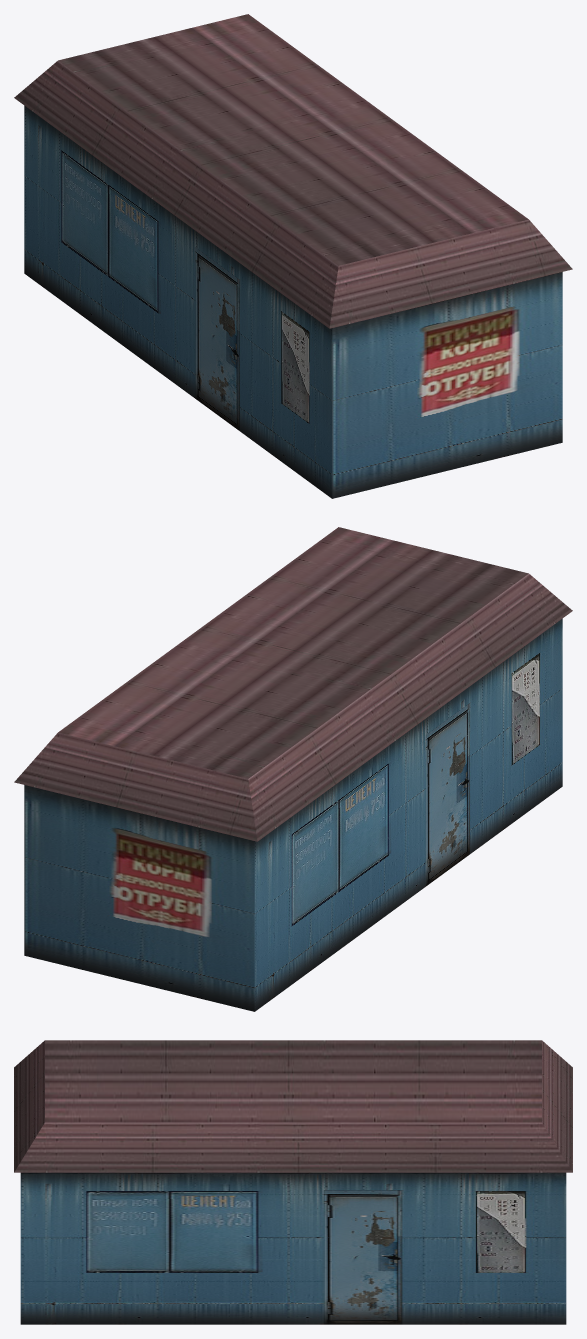
Rendered from omsk_magazin5.FBX.
3 renders of one model, top to bottom at view 1: azimuth 30°, elevation 25°; view 2: azimuth 150°, elevation 25°; view 3: azimuth 270°, elevation 25°, orthographic. The views are drawn at different scales.
Visible parts, largest first — view 1: omsk_magazin5; view 2: omsk_magazin5; view 3: omsk_magazin5.
Part boxes in pixels (left/top/right/bottom): omsk_magazin5: left=14, top=14, right=572, bottom=498; omsk_magazin5: left=14, top=527, right=572, bottom=1011; omsk_magazin5: left=14, top=1040, right=572, bottom=1324.
Bounding box in the file's own units: 3.5 × 7.86 × 3.
